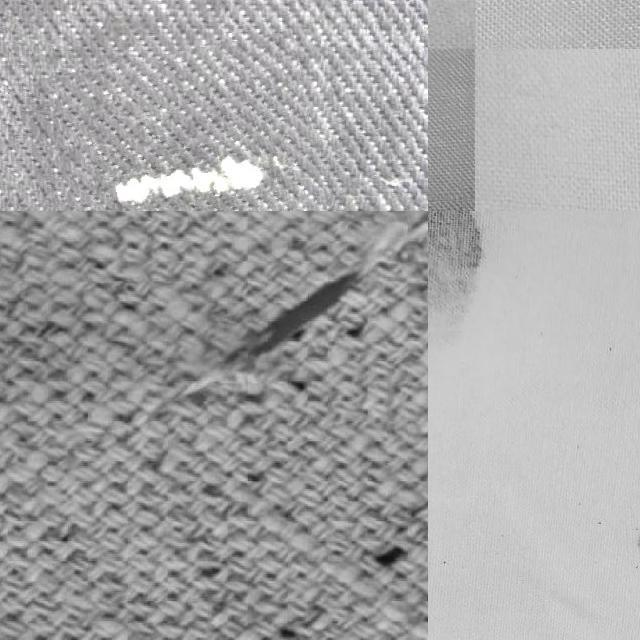Hole: (615, 494, 640, 576)
Thread_other: (54, 40, 328, 211)
seam: (196, 254, 368, 378), (350, 538, 420, 584), (263, 615, 307, 640)
